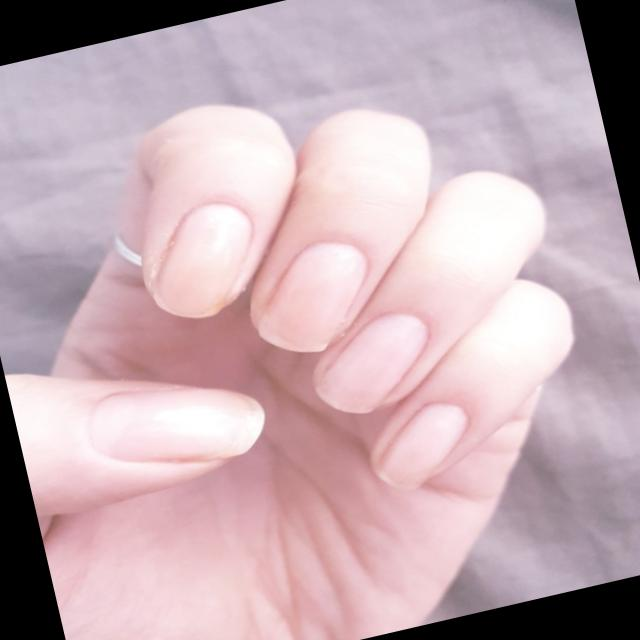Nail: (91, 389, 266, 460), (256, 242, 368, 352), (153, 203, 253, 317), (316, 313, 428, 413), (374, 403, 468, 489)
